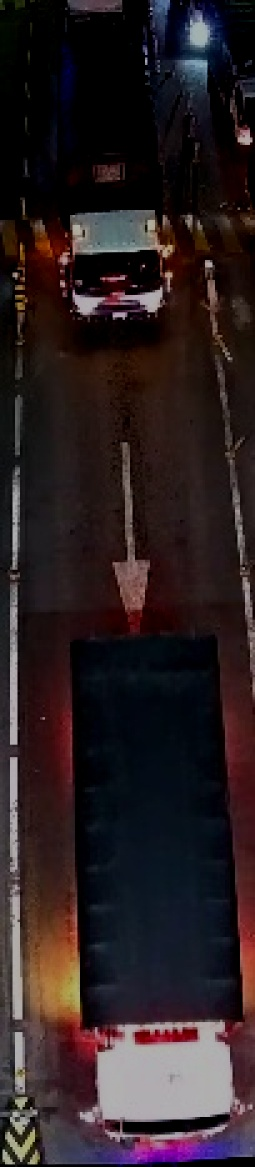truck: (64, 621, 249, 1141), (46, 11, 173, 319)
